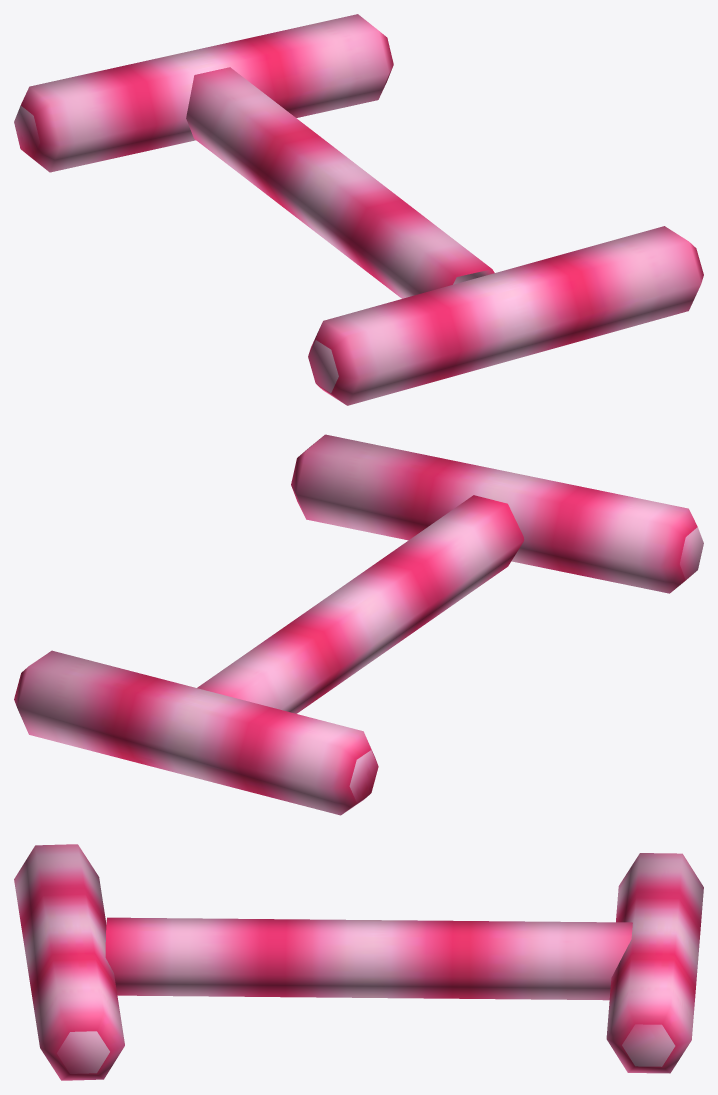
Rendered from furni_0200156.FBX.
3 views of the same model, one above another, from view 1: azimuth 30°, elevation 25°; view 2: azimuth 150°, elevation 25°; view 3: azimuth 270°, elevation 25° (orthographic). The views are drawn at different scales.
Parts seen in each view (by area): view 1: furni_0200156; view 2: furni_0200156; view 3: furni_0200156.
Boxes of the visible parts, x1,y1,x2,y2 form: furni_0200156: [14, 14, 703, 405]; furni_0200156: [14, 434, 703, 815]; furni_0200156: [14, 844, 703, 1080].
Bounding box in the file's own units: 31.11 × 5.52 × 50.37.
1 material, 1 textured.
